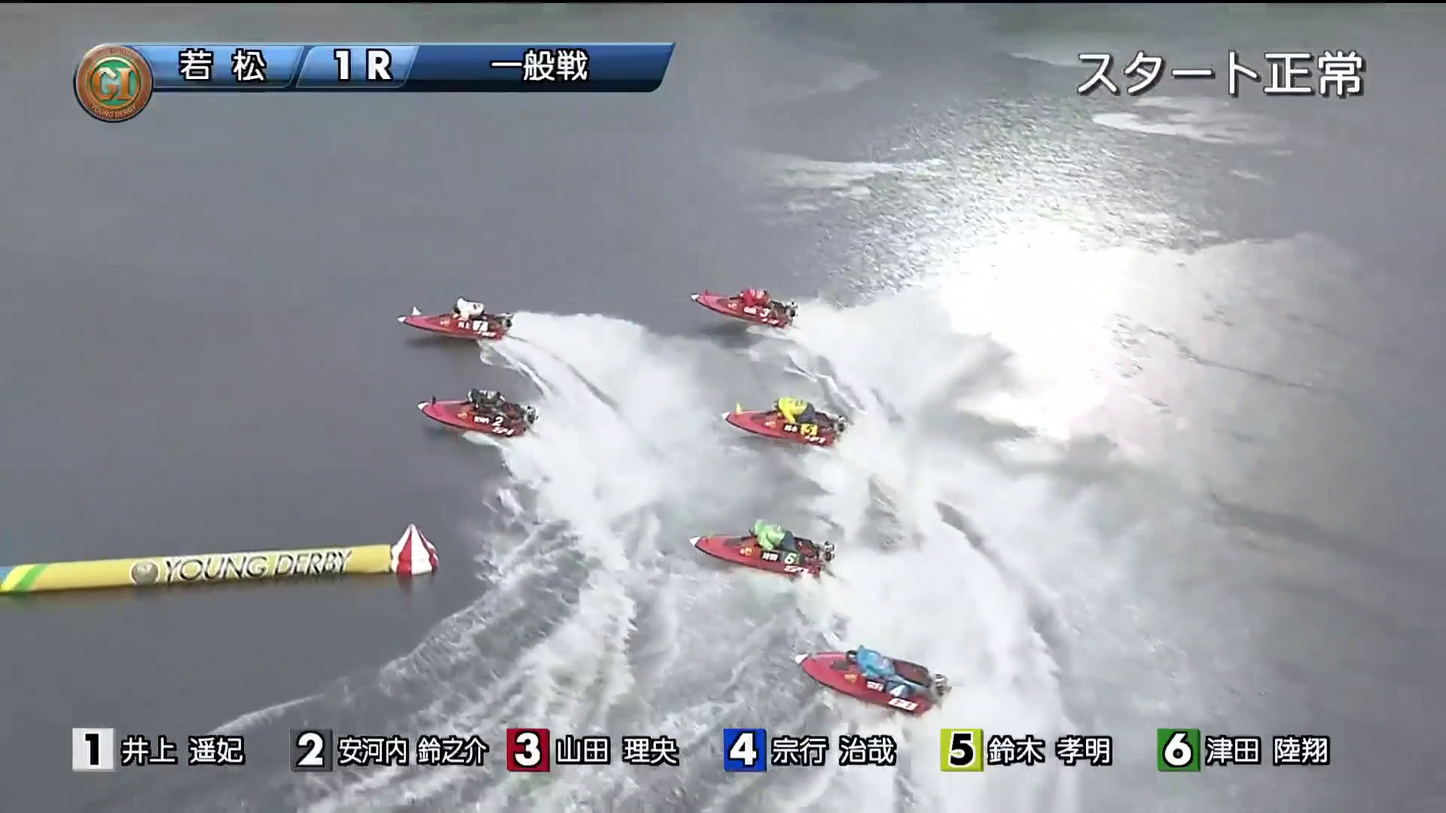１号艇: (442, 286, 513, 340)
２号艇: (425, 370, 554, 431)
３号艇: (715, 274, 813, 323)
４号艇: (722, 514, 856, 579)
５号艇: (822, 654, 945, 709)
６号艇: (741, 357, 841, 437)
